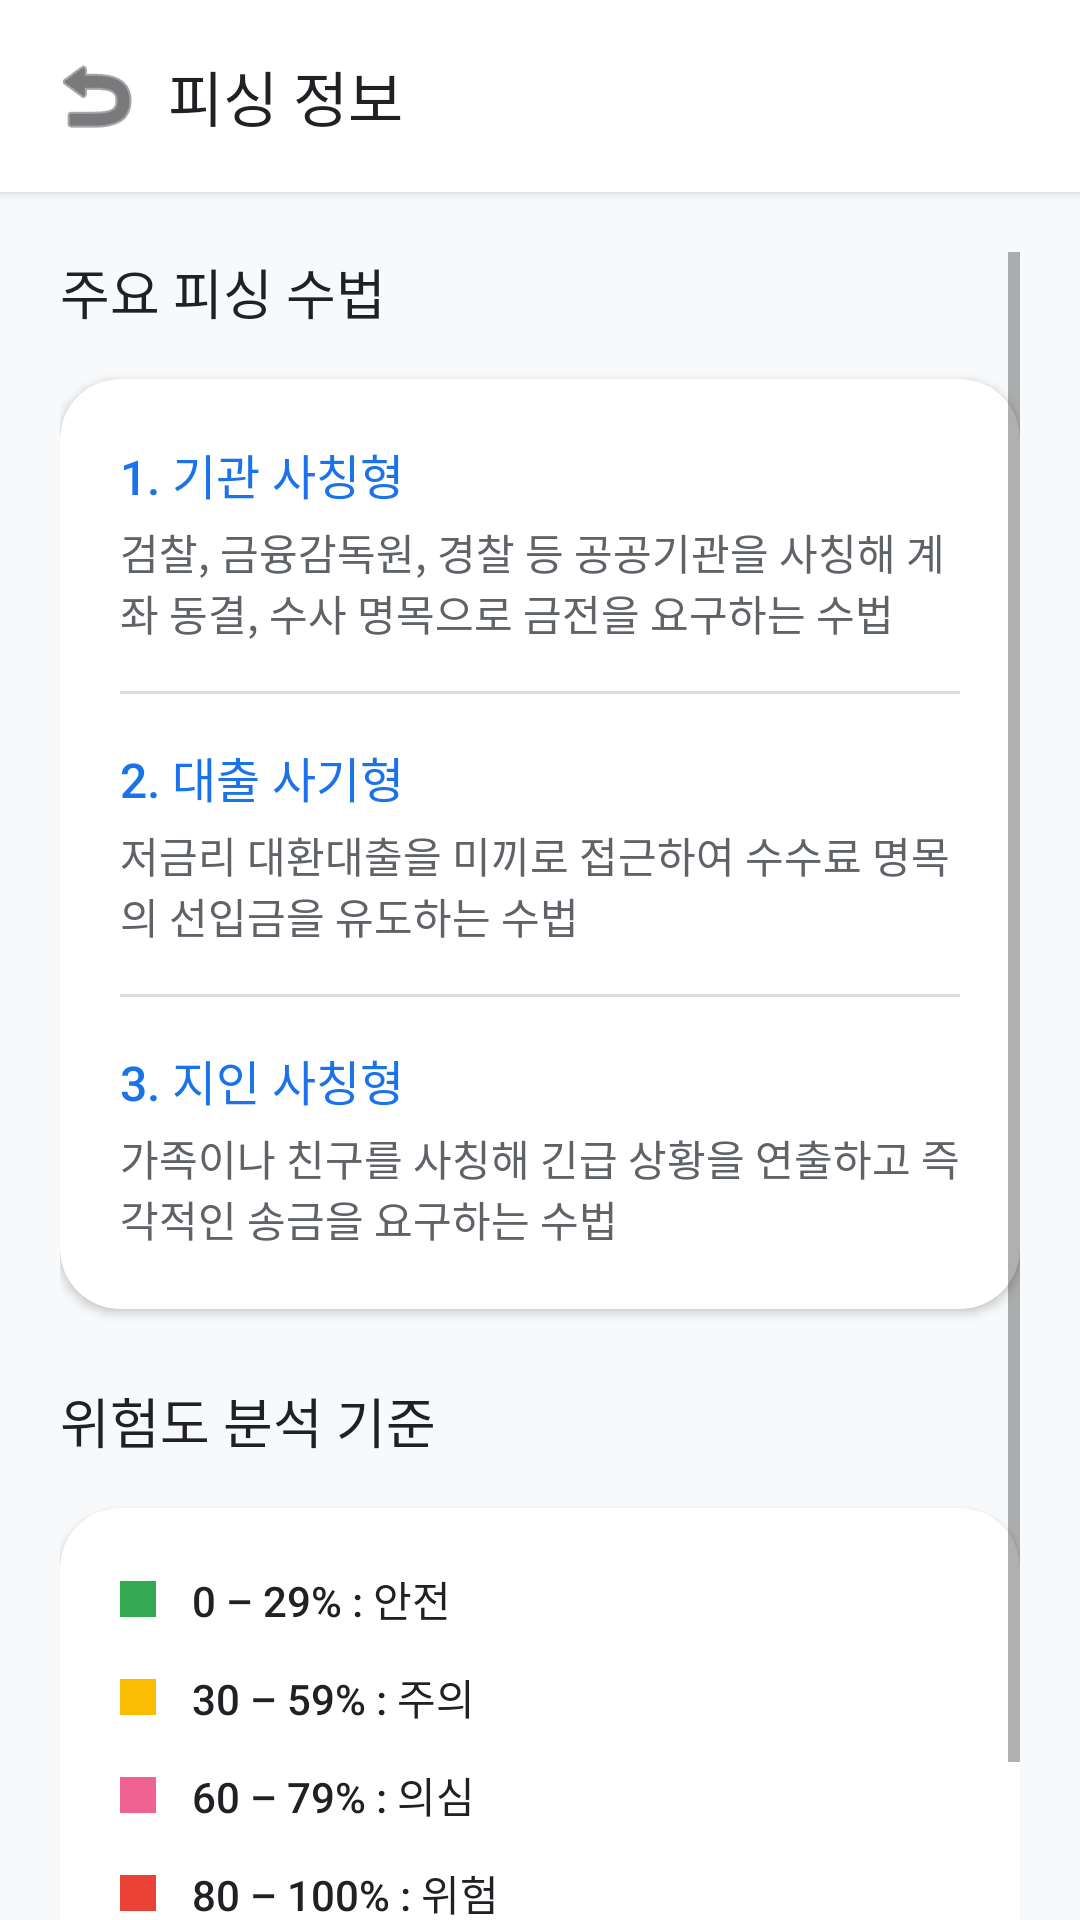

Screen size 1080×1920. Icon name, then its box in pixels as bbox=[x1, y1, x2, y2]:
이동: bbox=[63, 65, 132, 128]
